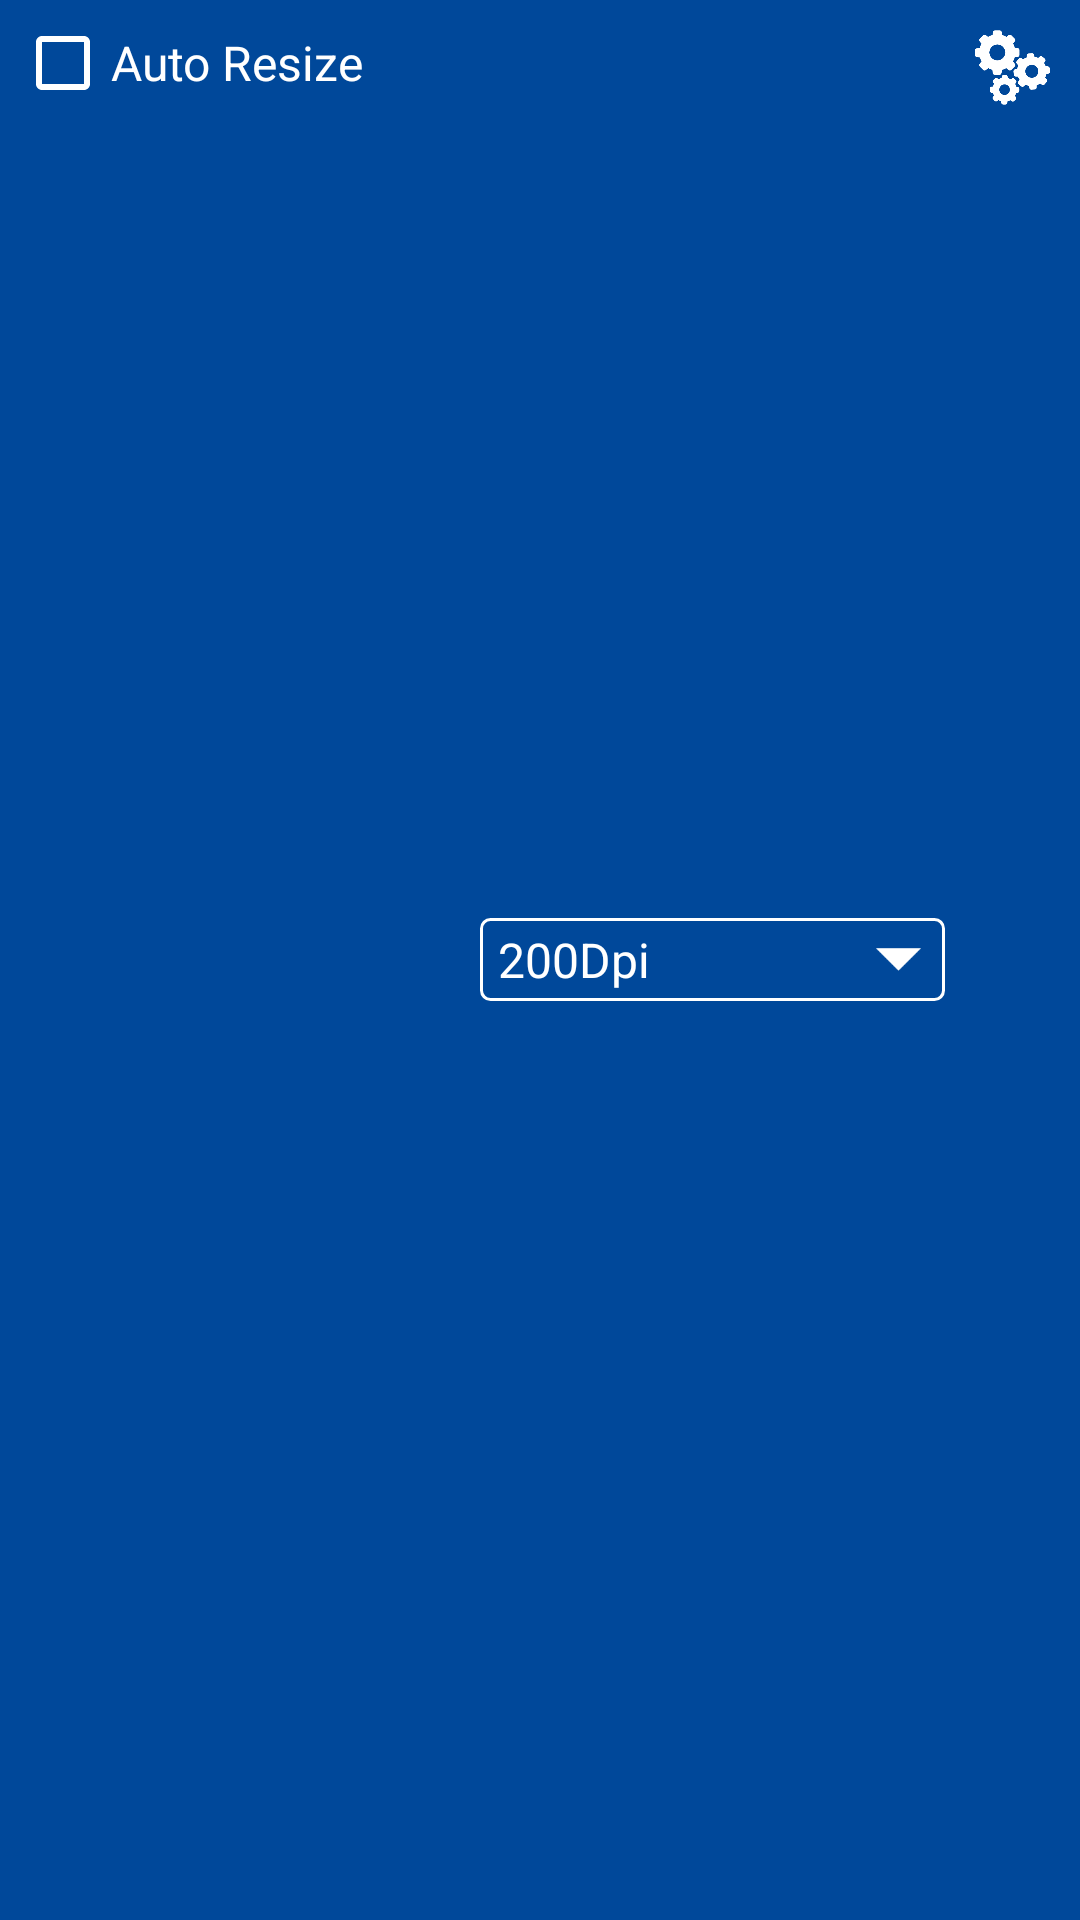

Named icons in this screenshot (1080px×1920px) and their centers, (x,y):
arrow down: (898,959)
setting: (1012,67)
